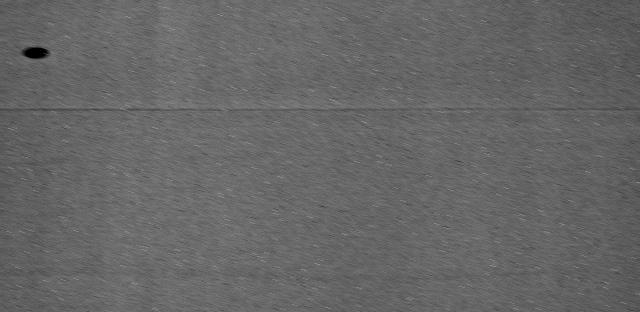punching_hole: (18, 42, 54, 62)
welding_line: (0, 100, 637, 118)
